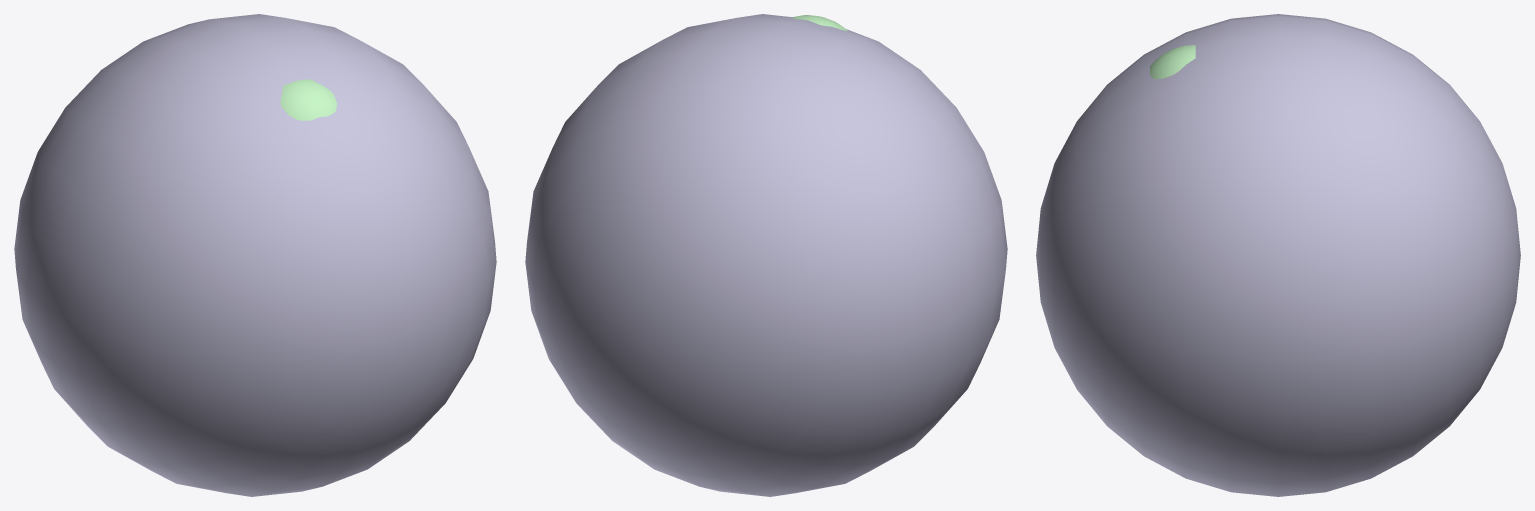
The model's file is ufo.glb.
The picture shows the model from 3 angles, left to right: view 1: azimuth 30°, elevation 25°; view 2: azimuth 150°, elevation 25°; view 3: azimuth 270°, elevation 25°; orthographic projection.
Parts seen in each view (by area): view 1: ufo; view 2: ufo; view 3: ufo.
Boxes of the visible parts, <box> form: ufo: <box>14,14,496,496</box>; ufo: <box>525,14,1007,496</box>; ufo: <box>1036,14,1520,496</box>.
Bounding box in the file's own units: 1.9 × 1.9 × 1.9.
